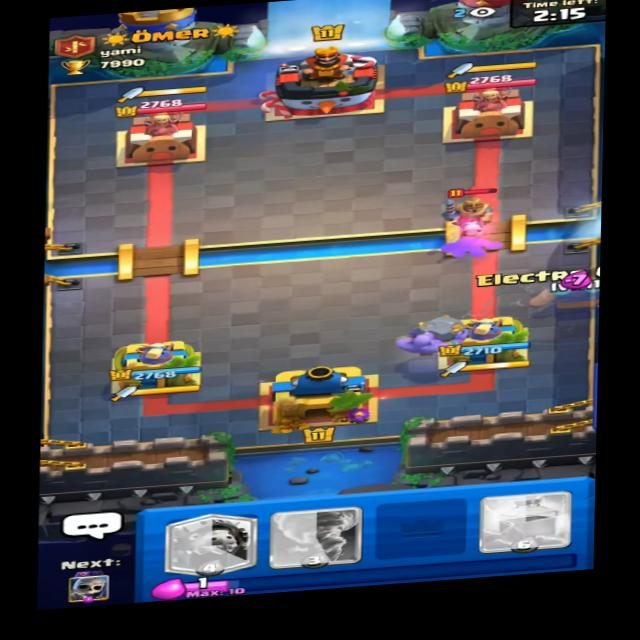Prince: (440, 181, 504, 244)
